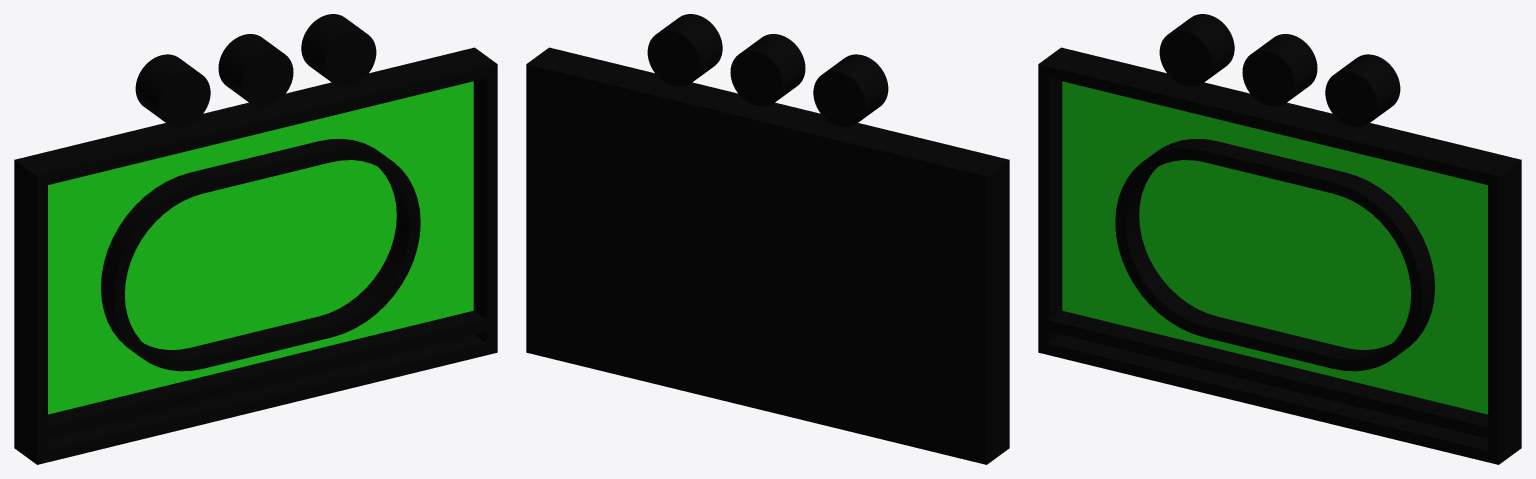
Rendered from ORBAT_-_WhiteEye.obj.
3 renders of one model, left to right at view 1: azimuth 30°, elevation 25°; view 2: azimuth 150°, elevation 25°; view 3: azimuth 330°, elevation 25°, orthographic.
Parts seen in each view (by area): view 1: SM_ORBAT - WhiteEye; view 2: SM_ORBAT - WhiteEye; view 3: SM_ORBAT - WhiteEye.
Boxes of the visible parts, left/top/right/bottom form: SM_ORBAT - WhiteEye: left=14, top=14, right=497, bottom=464; SM_ORBAT - WhiteEye: left=526, top=14, right=1009, bottom=464; SM_ORBAT - WhiteEye: left=1038, top=14, right=1521, bottom=464.
Bounding box in the file's own units: 1.21 × 0.8948 × 0.1034.
